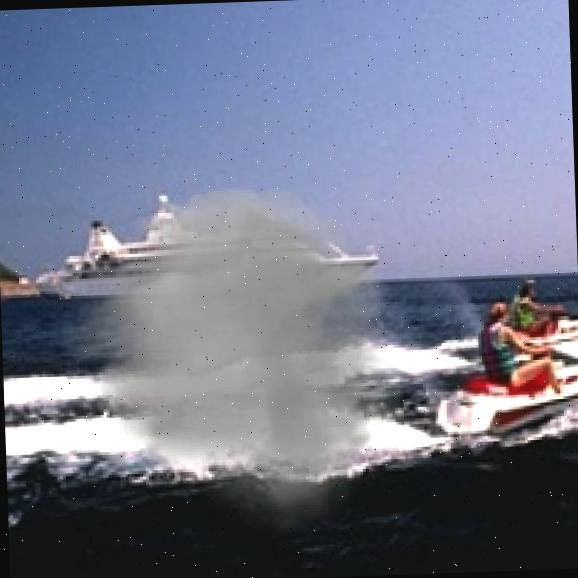smoke: (41, 173, 424, 542)
